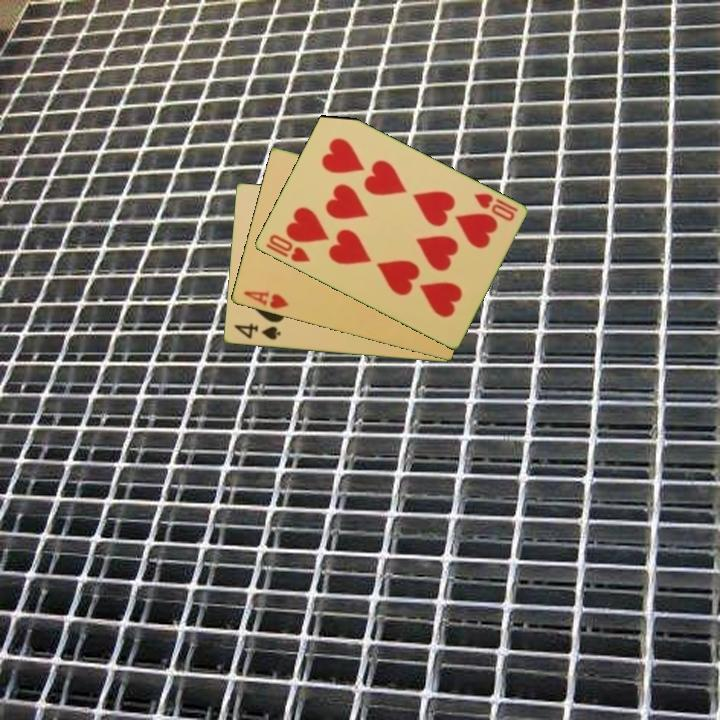10h: (261, 231, 313, 265), (470, 190, 521, 224)
4s: (230, 320, 283, 343)
Ah: (240, 287, 291, 312)
